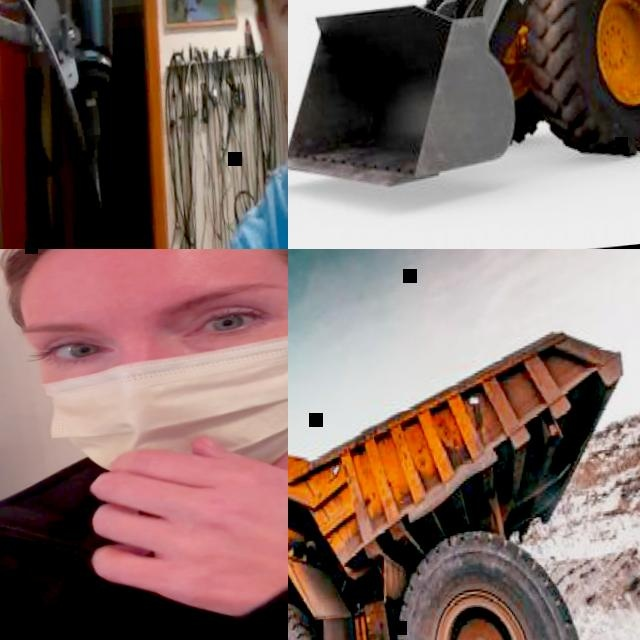Mask: (31, 290, 288, 493)
NO-Hardhat: (5, 249, 288, 289)
NO-Safety Vest: (0, 458, 288, 640), (237, 176, 288, 249)
Person: (0, 249, 288, 640), (176, 0, 288, 249)
machinery: (288, 313, 640, 640), (288, 0, 640, 209)
